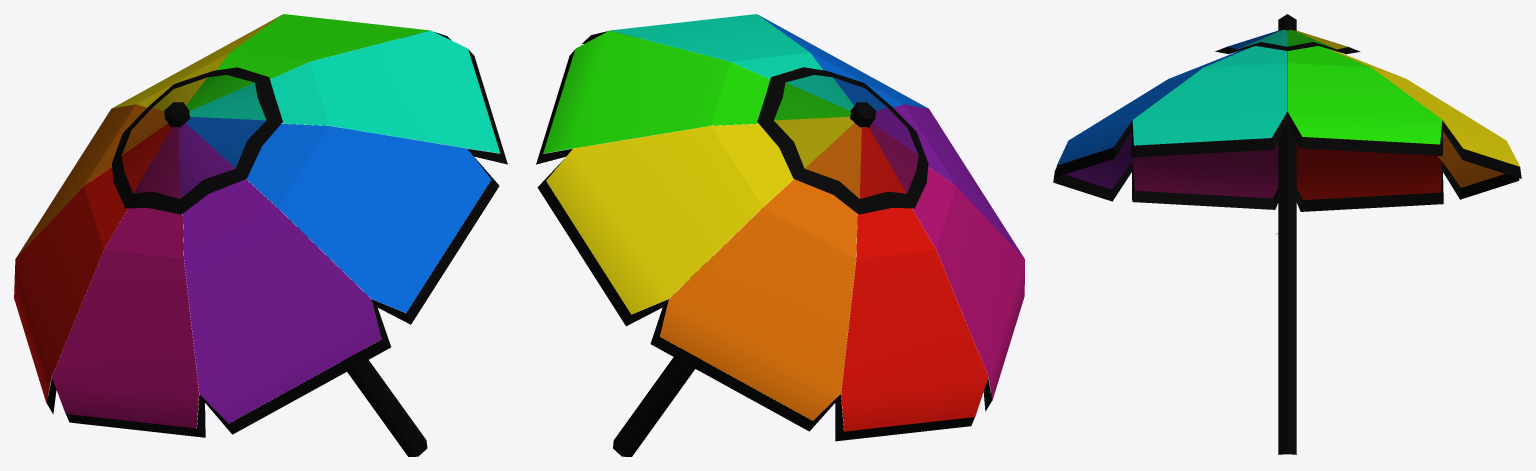
File: hat_umbrella.glb
3 views of the same model, side by side, from view 1: azimuth 30°, elevation 25°; view 2: azimuth 150°, elevation 25°; view 3: azimuth 270°, elevation 25° (orthographic). The views are drawn at different scales.
Visible parts, largest first — view 1: hat_umbrella; view 2: hat_umbrella; view 3: hat_umbrella.
Boxes of the visible parts, x1,y1,x2,y2 form: hat_umbrella: (14,14,507,456); hat_umbrella: (536,14,1024,456); hat_umbrella: (1053,14,1521,454).
Bounding box in the file's own units: 0.3149 × 0.3054 × 0.3654.
